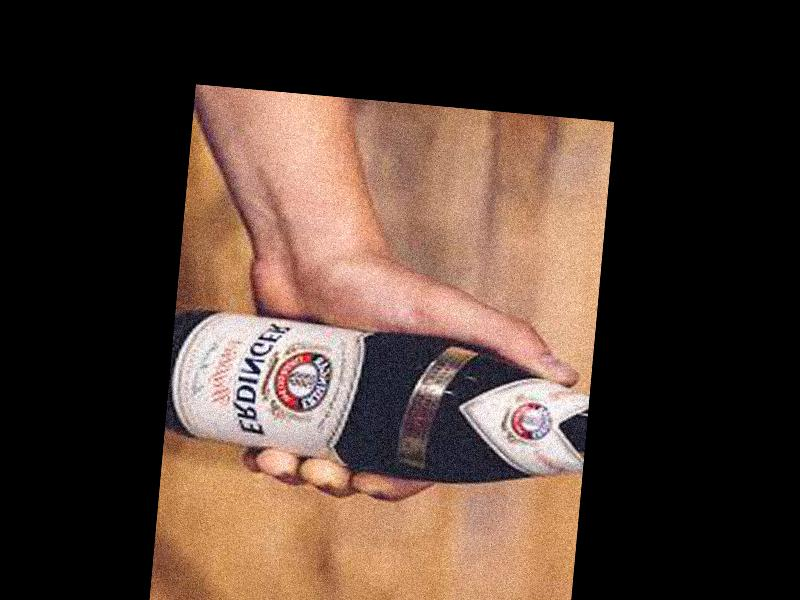Beer: (162, 305, 589, 494)
